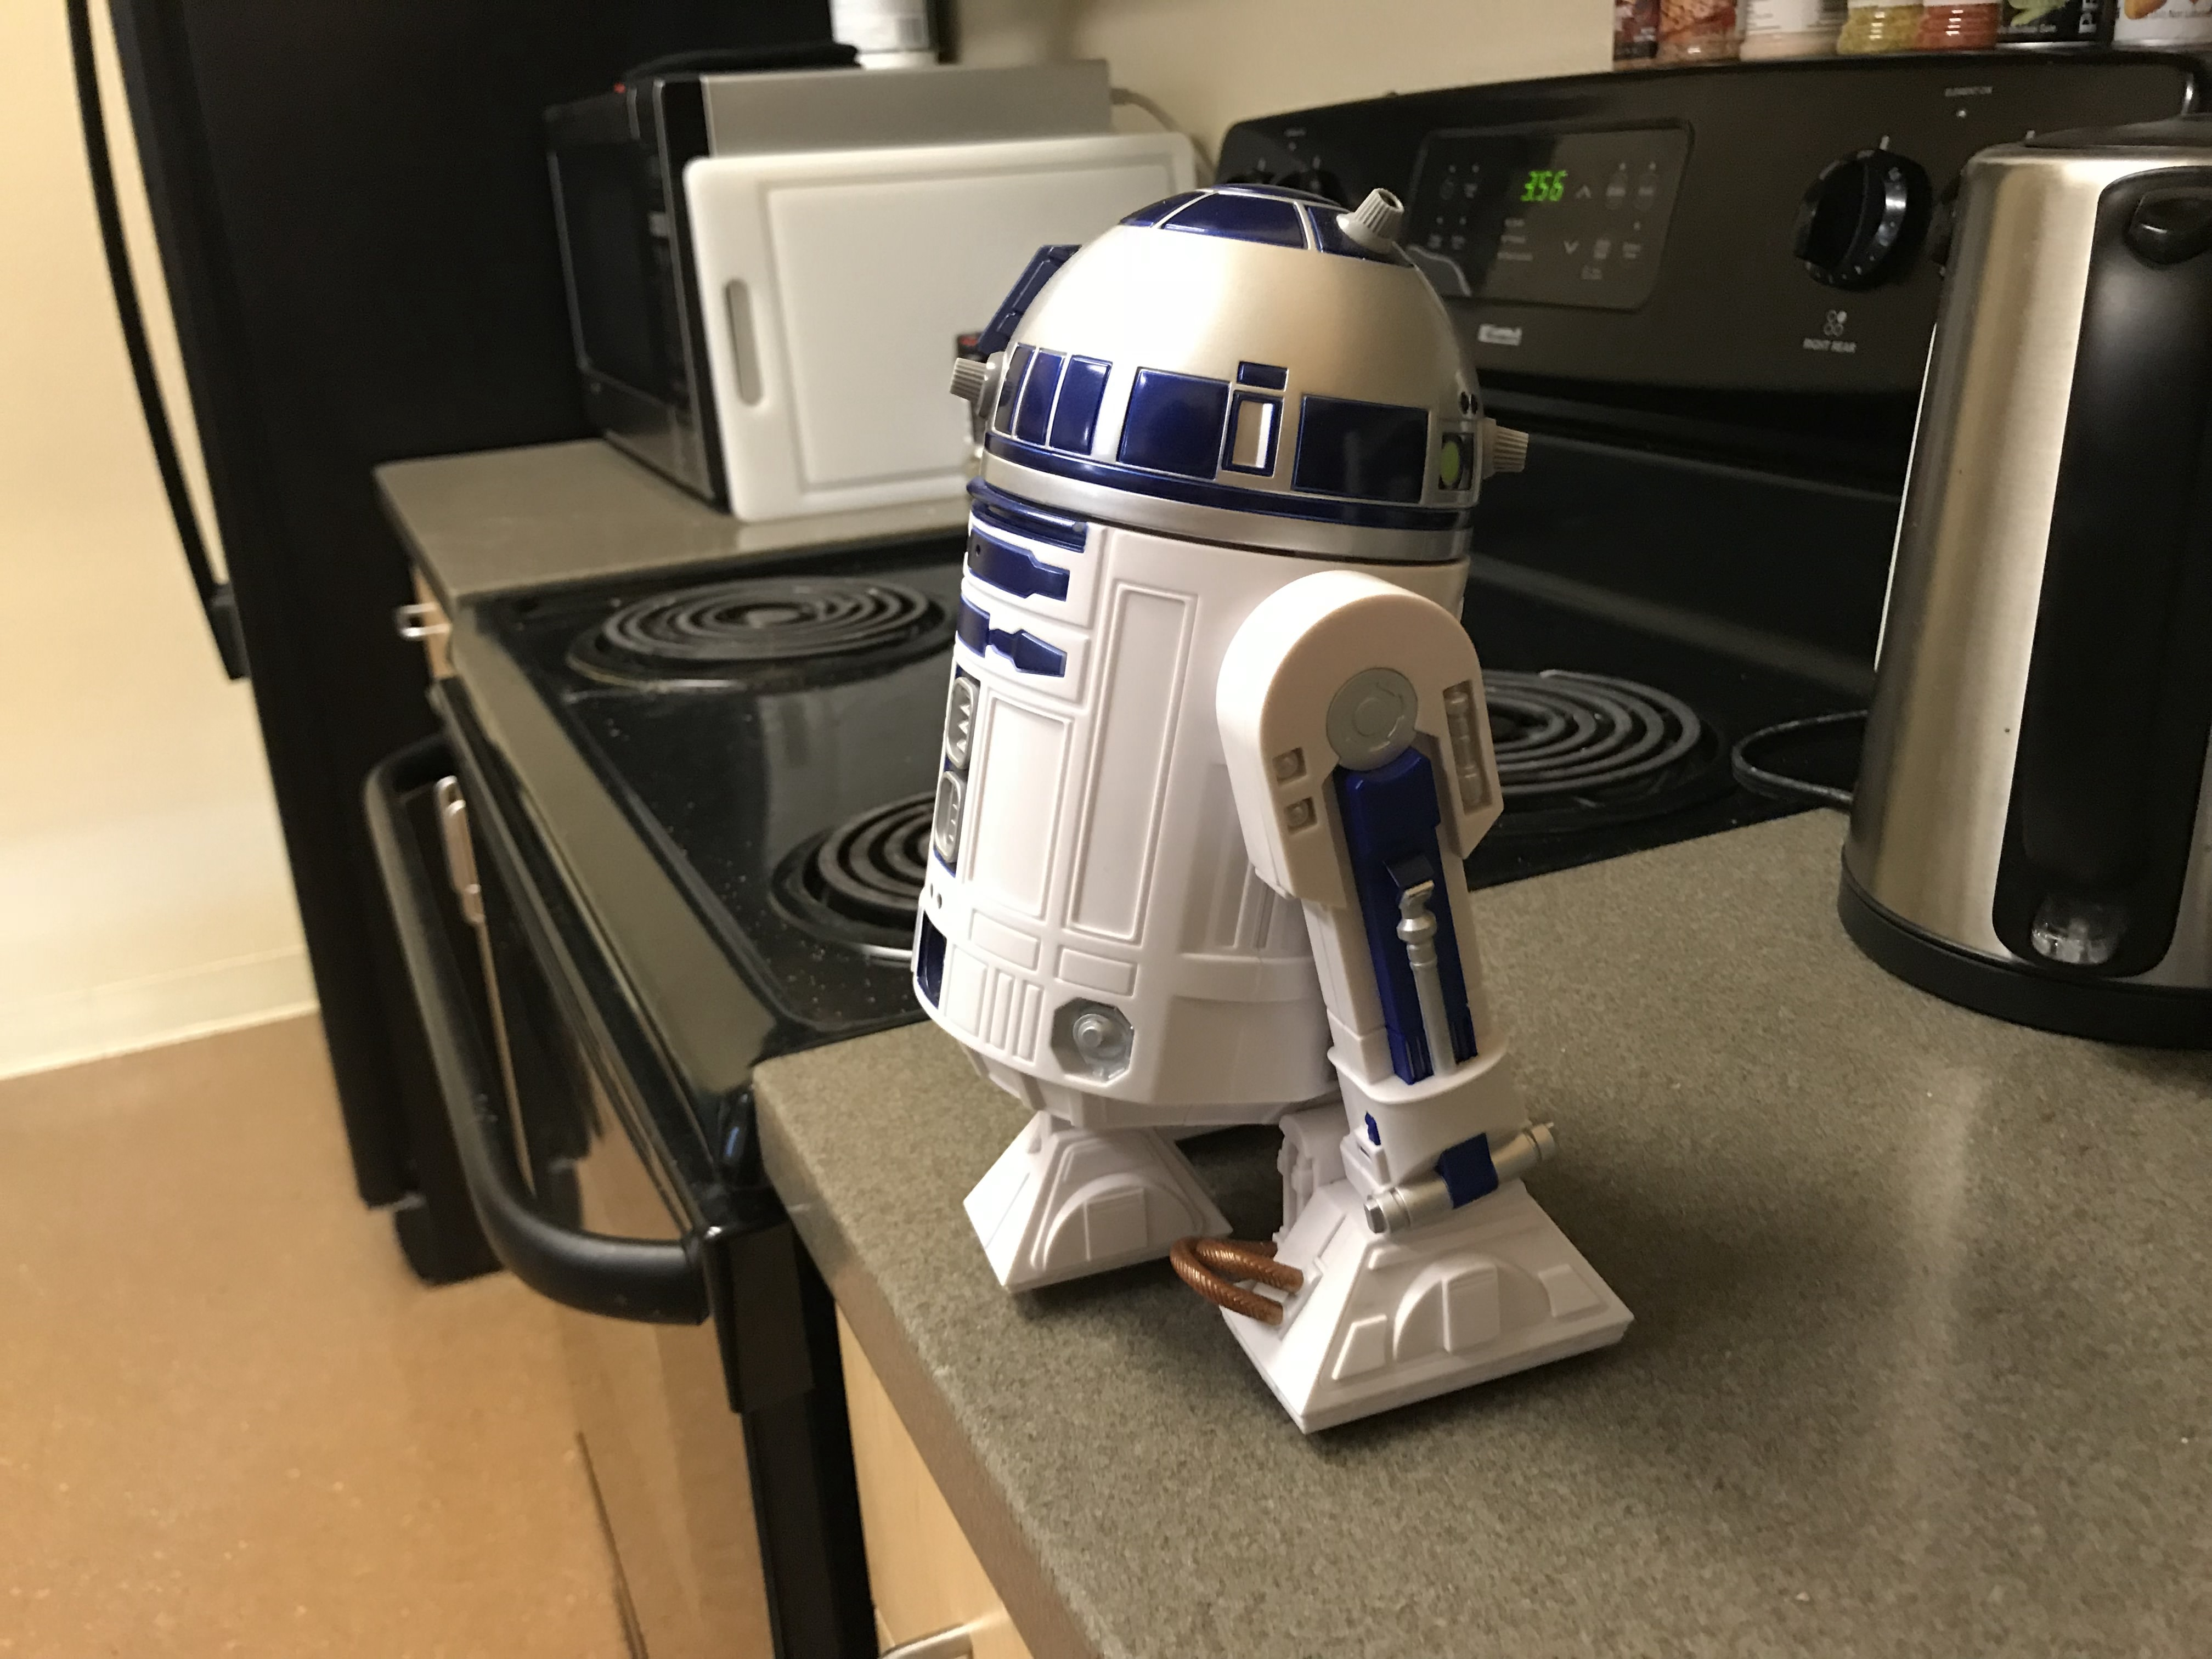r2d2: (911, 178, 1635, 1427)
